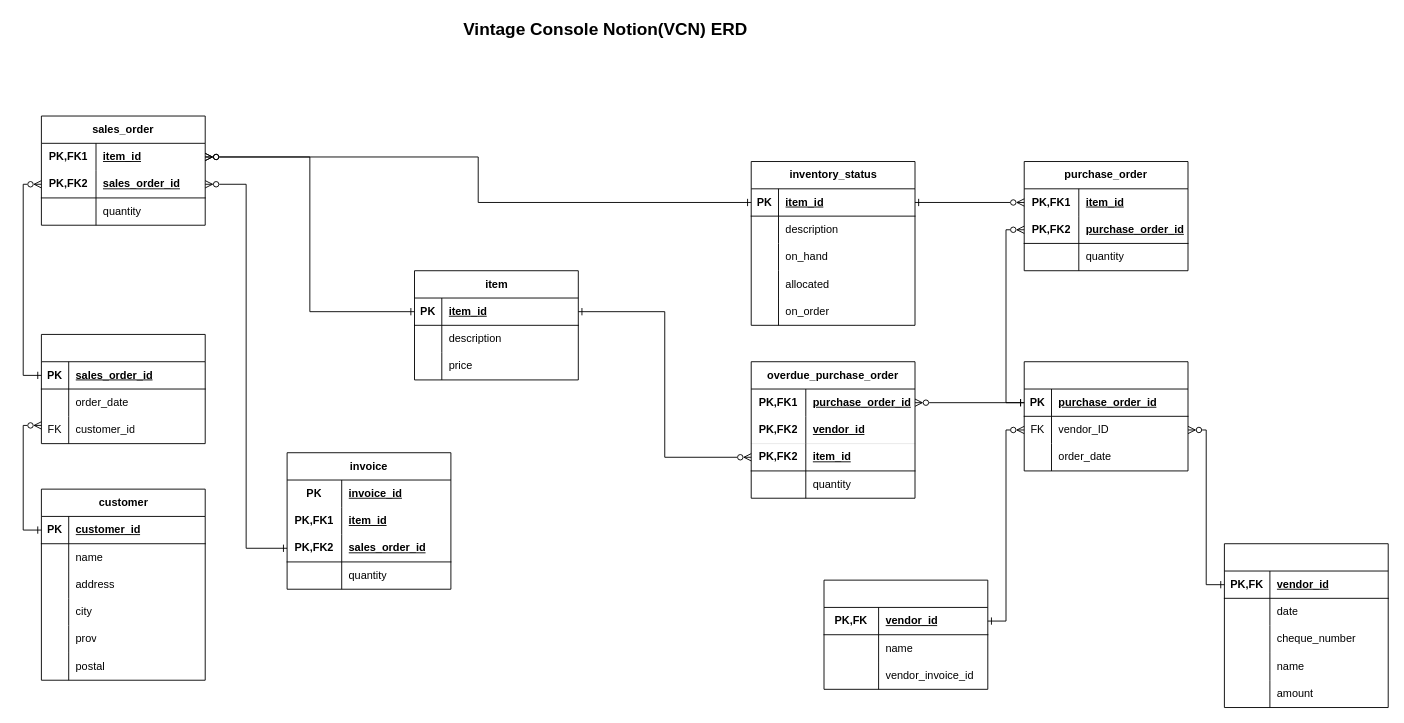
The diagram is 1404 pixels wide and 723 high, and some of its shapes have lost their labels. The box of each missing label's shape, as (x1, y1, x2, y2) in pixels:
AP_cheque: (1223, 543, 1388, 708)
AP_inquiry: (823, 579, 988, 689)
purchase_order_detail: (1023, 361, 1188, 471)
sales_order_detail: (40, 334, 205, 444)
